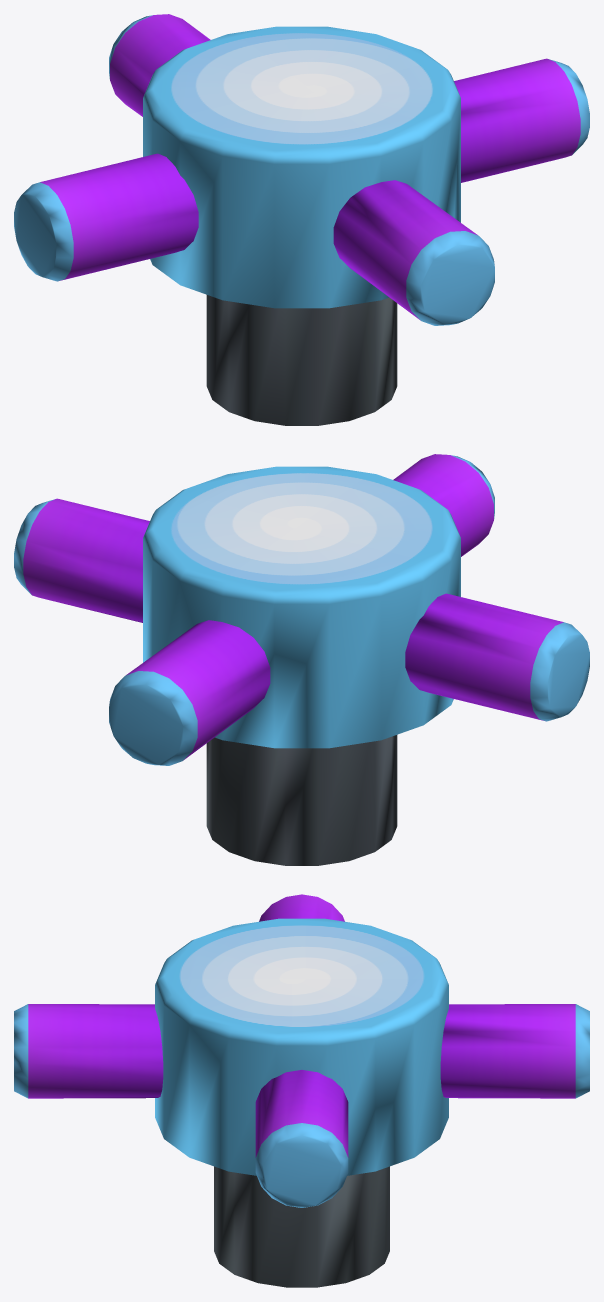
Rendered from obs_01_blend.fbx.
3 renders of one model, top to bottom at view 1: azimuth 30°, elevation 25°; view 2: azimuth 150°, elevation 25°; view 3: azimuth 270°, elevation 25°, orthographic. The views are drawn at different scales.
Visible parts, largest first — view 1: obs_01_blend; view 2: obs_01_blend; view 3: obs_01_blend.
Part boxes in pixels (x1,y1,x2,y2): obs_01_blend: (14,14,589,425); obs_01_blend: (14,454,589,865); obs_01_blend: (14,894,589,1287).
Size of the model in its own units: 162 by 86.04 by 163.
